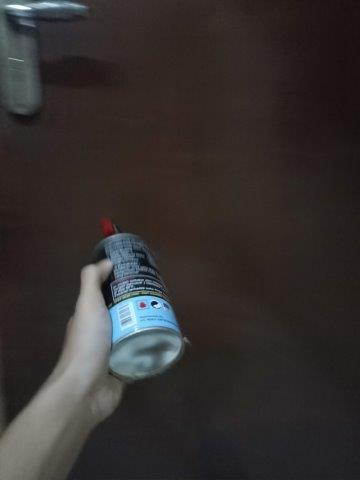kaleng: (91, 233, 184, 382)
